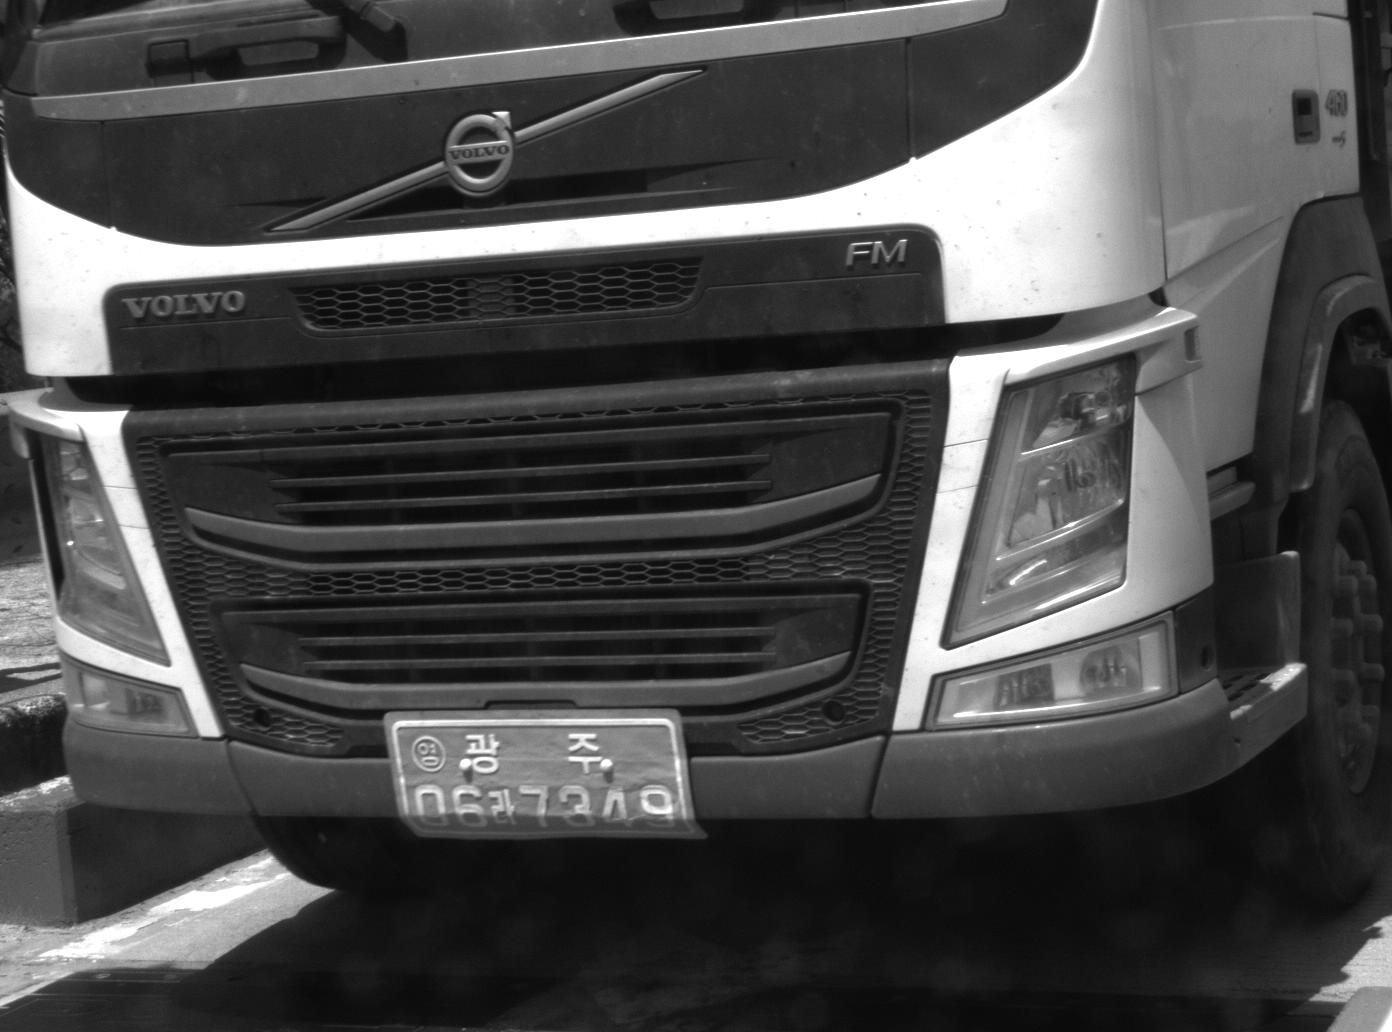car: (1, 1, 1389, 929)
plate: (379, 704, 717, 844)
